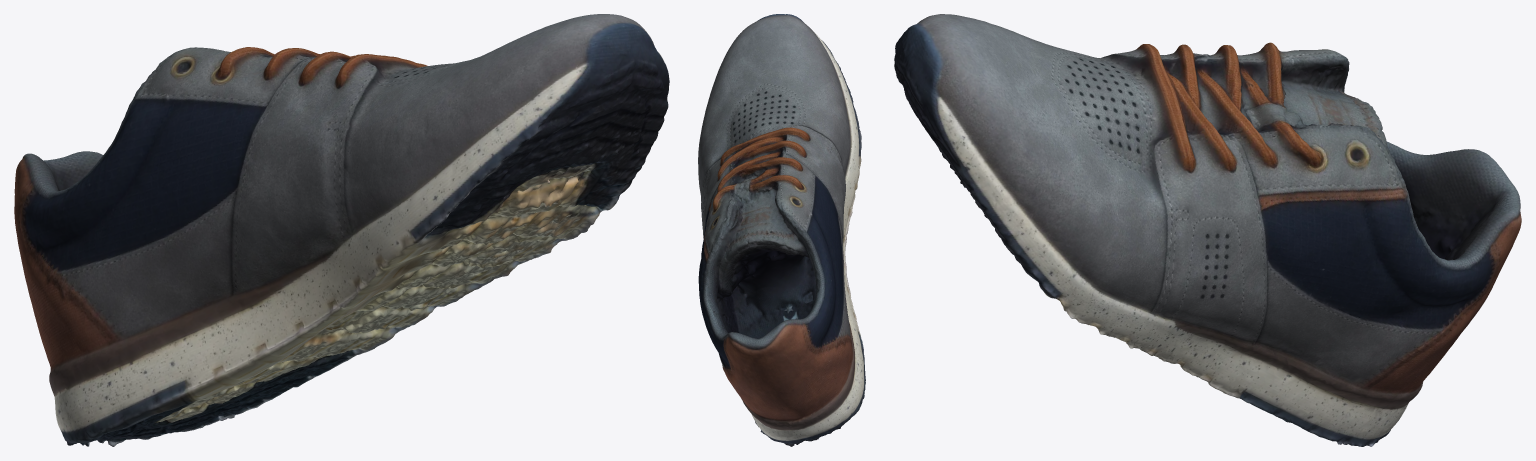
The model's file is sf-free-shoe-model-a71caa.glb.
3 renders of one model, left to right at view 1: azimuth 30°, elevation 25°; view 2: azimuth 150°, elevation 25°; view 3: azimuth 270°, elevation 25°, orthographic. The views are drawn at different scales.
Visible parts, largest first — view 1: Object_2; view 2: Object_2; view 3: Object_2.
Boxes of the visible parts, x1,y1,x2,y2 form: Object_2: (14,14,669,446); Object_2: (698,14,865,446); Object_2: (894,14,1521,446).
Size of the model in its own units: 6.14 by 7.54 by 8.33.
1 material, 1 textured.
